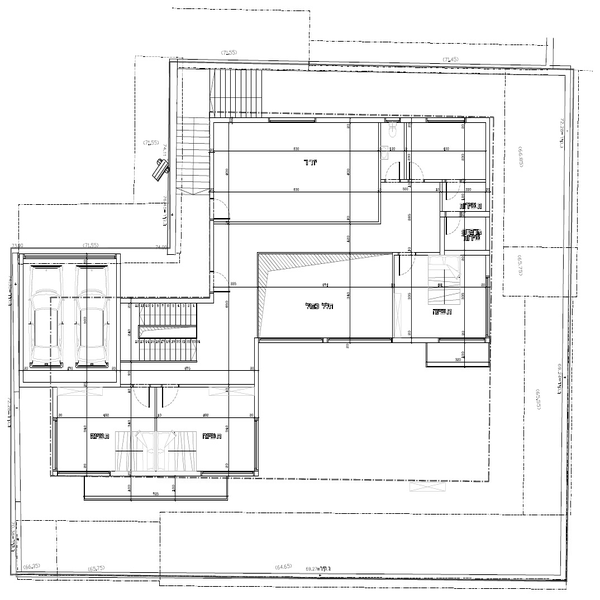room: (42, 378, 266, 510), (379, 110, 495, 345), (205, 112, 387, 221), (7, 238, 125, 389), (249, 245, 400, 346)
